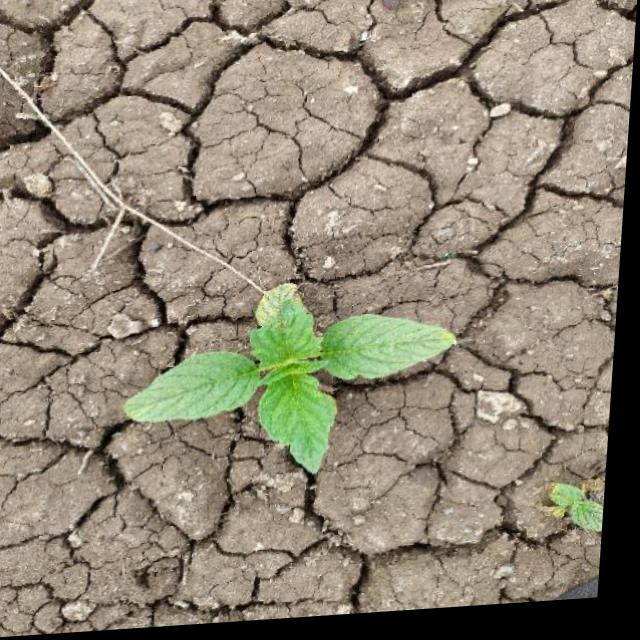crop: (119, 277, 480, 484)
